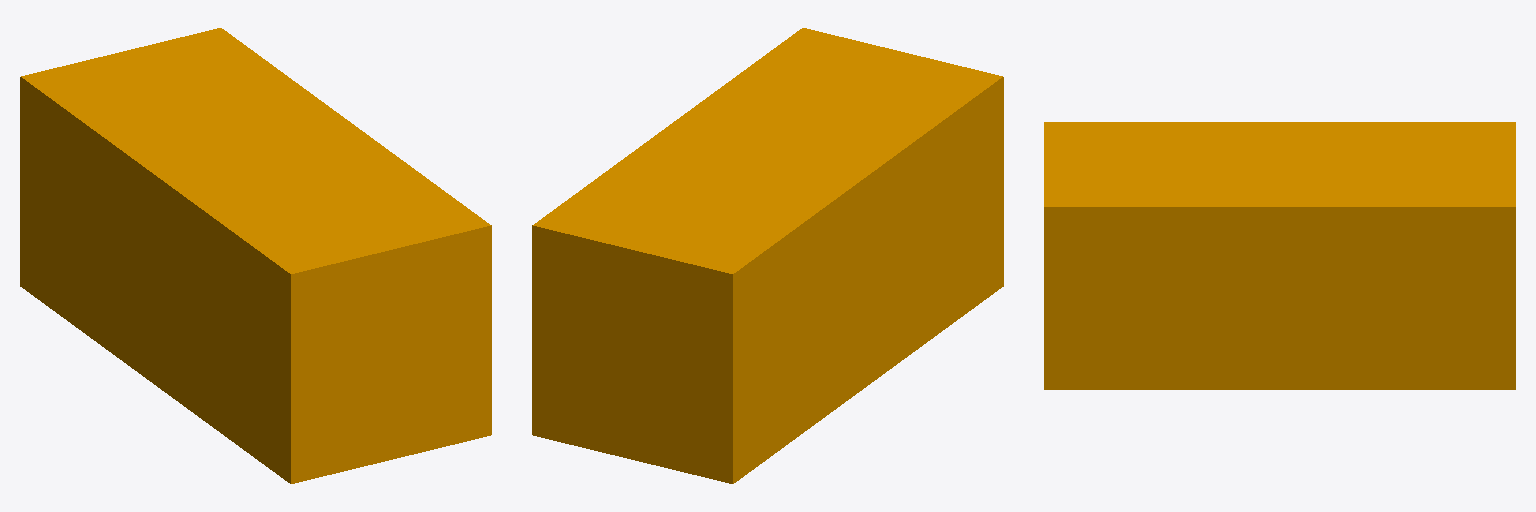
The robot description file, URDF, robot "dingshuji":
<robot name="dingshuji">
  <link name="link">
    <inertial>
      <origin xyz="0 0 0" />
      <mass value="0.1" />
      <!-- (1/12)*mass*(y^2 + z^2)  (1/12)*mass*(x^2 + z^2) (1/12)*mass*(x^2 + y^2) -->
      <inertia  ixx="0.000193333" ixy="0.0"  ixz="0.0"  iyy="0.00006"  iyz="0.0"  izz="0.000193333" />
    </inertial>
    <visual>
      <origin xyz="0 0 0"/>
      <geometry>
        <box size="0.06 0.14 0.06" />
      </geometry>
    </visual>
    <collision>
      <origin xyz="0 0 0"/>
      <geometry>
        <box size="0.06 0.14 0.06" />
      </geometry>
    </collision>
  </link>
  <gazebo reference="link">
    <material>Gazebo/Turquoise</material>
    <mu1>1000</mu1>
    <mu2>1000</mu2>
    <maxVel>0.0</maxVel>
    <minDepth>0.0001</minDepth>
    <turnGravityOff>0</turnGravityOff>
  </gazebo>
</robot>

--- Render facts (derived) ---
3 views of the same robot in one strip: view 1: azimuth 30°, elevation 25°; view 2: azimuth 150°, elevation 25°; view 3: azimuth 270°, elevation 25° (orthographic).
Model dingshuji with 1 links and 0 joints (none), rooted at link, posed every joint at zero.
Links seen in each view (by area): view 1: link; view 2: link; view 3: link.
Link boxes in pixels (bbox=[...]): link: bbox=[20, 28, 491, 483]; link: bbox=[532, 28, 1003, 483]; link: bbox=[1044, 122, 1515, 389].
Size in the robot's own frame: 0.06 by 0.14 by 0.06 metres.
Geometry: primitives only (box / cylinder / sphere), no mesh files.
